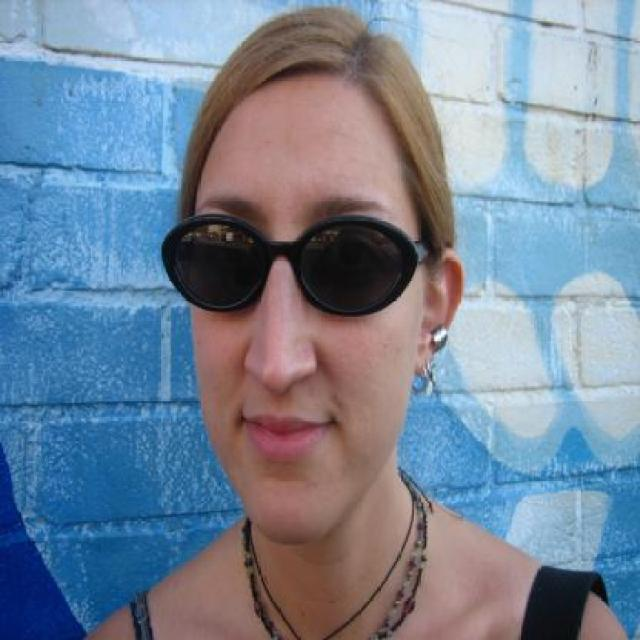face_nomask: (171, 210, 404, 468)
glasses: (159, 208, 430, 315)
head_nohelmet: (182, 12, 436, 165)
person: (81, 18, 640, 639)
